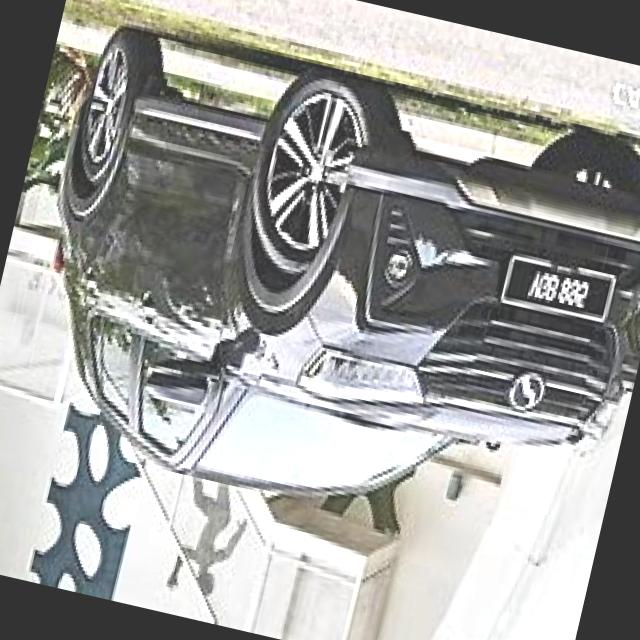PeroduaAtiva: (0, 12, 640, 575)
